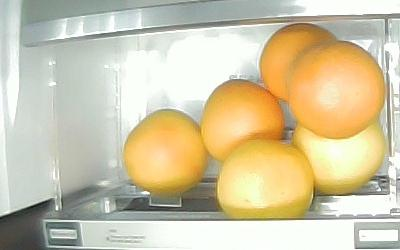grapefruit: (290, 41, 386, 139), (216, 139, 313, 218), (122, 109, 208, 198), (201, 80, 285, 162), (293, 123, 386, 195), (260, 24, 338, 102)
